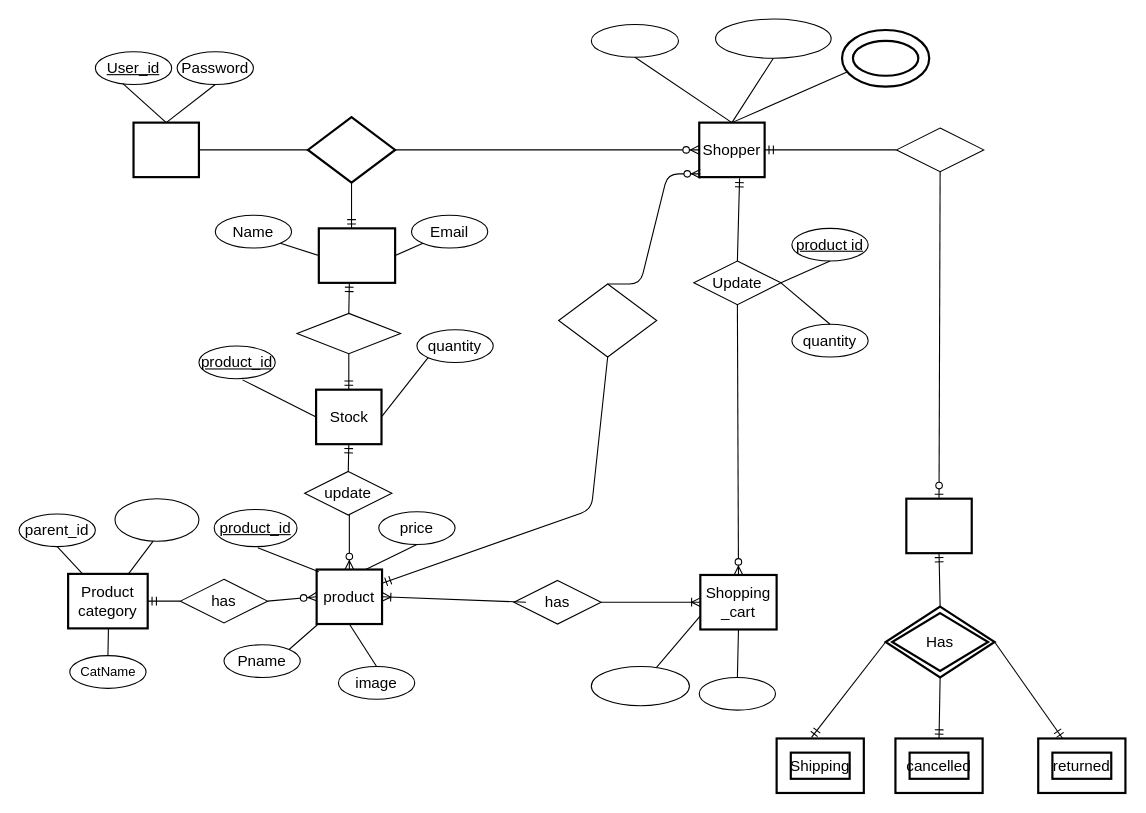
This 1146x813 diagram has some shape labels left out. The shapes that lost their labels are listed below. From the top down, each one's box as (x1, y1, x2, y2) in pixels, then its label:
(590, 23, 679, 57): Shopper_id
(714, 18, 831, 58): Shopper_name
(840, 28, 930, 87): Address
(132, 121, 199, 178): user
(306, 116, 396, 183): Login
(895, 127, 984, 172): place
(317, 227, 396, 283): admin
(296, 312, 401, 354): Manage
(558, 283, 657, 357): Select product
(114, 498, 199, 541): category_id
(905, 497, 972, 554): order
(590, 665, 689, 706): Date_Added
(698, 676, 776, 710): cart_id
